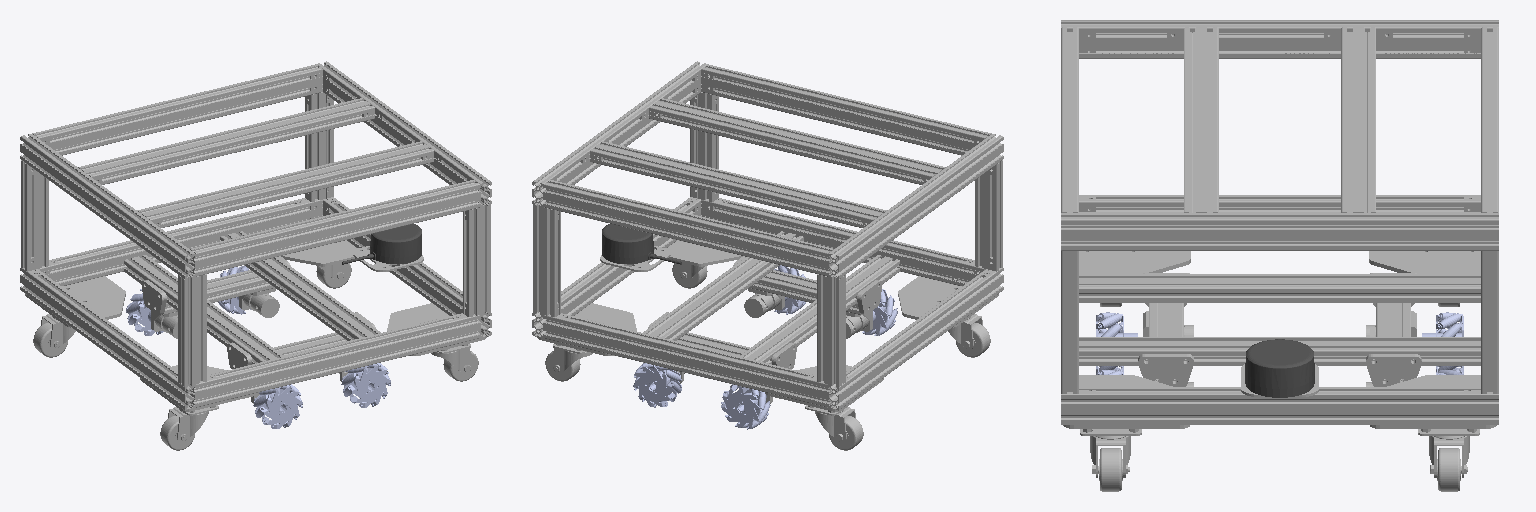
robot.urdf — chassis:
<?xml version="1.0" encoding="utf-8"?>
<!-- This URDF was automatically created by SolidWorks to URDF Exporter! Originally created by Stephen Brawner (brawner@gmail.com) 
     Commit Version: 1.6.0-4-g7f85cfe  Build Version: 1.6.7995.38578
     For more information, please see http://wiki.ros.org/sw_urdf_exporter -->
<robot
  name="chassis">
  <link
    name="base_link">
    <inertial>
      <origin
        xyz="-0.0677499107956596 4.3724418912483E-05 0.0683926250538354"
        rpy="0 0 0" />
      <mass
        value="3.22393142364253" />
      <inertia
        ixx="0.0187770652552285"
        ixy="-6.94989088987062E-08"
        ixz="-3.69535574562707E-08"
        iyy="0.02048392582904"
        iyz="3.35166257416731E-11"
        izz="0.0375088689683629" />
    </inertial>
    <visual>
      <origin
        xyz="0 0 0"
        rpy="0 0 0" />
      <geometry>
        <mesh
          filename="package://chassis/meshes/base_link.STL" />
      </geometry>
      <material
        name="">
        <color
          rgba="0.752941176470588 0.752941176470588 0.752941176470588 1" />
      </material>
    </visual>
    <collision>
      <origin
        xyz="0 0 0"
        rpy="0 0 0" />
      <geometry>
        <mesh
          filename="package://chassis/meshes/base_link.STL" />
      </geometry>
    </collision>
  </link>
  <link
    name="scan_Link">
    <inertial>
      <origin
        xyz="-0.0025063 4.5658E-06 0.0060826"
        rpy="0 0 0" />
      <mass
        value="0.037431" />
      <inertia
        ixx="2.8048E-05"
        ixy="-2.199E-09"
        ixz="-1.0712E-06"
        iyy="3.3616E-05"
        iyz="-6.8397E-10"
        izz="4.5085E-05" />
    </inertial>
    <visual>
      <origin
        xyz="0 0 0"
        rpy="0 0 0" />
      <geometry>
        <mesh
          filename="package://chassis/meshes/scan_Link.STL" />
      </geometry>
      <material
        name="">
        <color
          rgba="0.37647 0.37647 0.37647 1" />
      </material>
    </visual>
    <collision>
      <origin
        xyz="0 0 0"
        rpy="0 0 0" />
      <geometry>
        <mesh
          filename="package://chassis/meshes/scan_Link.STL" />
      </geometry>
    </collision>
  </link>
  <joint
    name="scan_Joint"
    type="fixed">
    <origin
      xyz="0.176999549642127 0 0.0500745386389849"
      rpy="0 0 0" />
    <parent
      link="base_link" />
    <child
      link="scan_Link" />
    <axis
      xyz="0 0 0" />
  </joint>
  <link
    name="FL_Link">
    <inertial>
      <origin
        xyz="-2.268E-05 -0.017766 -3.3245E-05"
        rpy="0 0 0" />
      <mass
        value="0.057098" />
      <inertia
        ixx="2.1034E-05"
        ixy="5.4288E-09"
        ixz="9.6894E-09"
        iyy="3.3961E-05"
        iyz="7.9775E-09"
        izz="2.1037E-05" />
    </inertial>
    <visual>
      <origin
        xyz="0 0 0"
        rpy="0 0 0" />
      <geometry>
        <mesh
          filename="package://chassis/meshes/FL_Link.STL" />
      </geometry>
      <material
        name="">
        <color
          rgba="0.79216 0.81961 0.93333 1" />
      </material>
    </visual>
    <collision>
      <origin
        xyz="0 0 0"
        rpy="0 0 0" />
      <geometry>
        <mesh
          filename="package://chassis/meshes/FL_Link.STL" />
      </geometry>
    </collision>
  </link>
  <joint
    name="FL_Joint"
    type="continuous">
    <origin
      xyz="0.0119843681259687 0.207999999999991 -0.0618699701855335"
      rpy="0 0 0" />
    <parent
      link="base_link" />
    <child
      link="FL_Link" />
    <axis
      xyz="0 -1 0" />
  </joint>
  <link
    name="FR_Link">
    <inertial>
      <origin
        xyz="-2.268E-05 0.017753 -3.3245E-05"
        rpy="0 0 0" />
      <mass
        value="0.057098" />
      <inertia
        ixx="2.1034E-05"
        ixy="5.4288E-09"
        ixz="9.6894E-09"
        iyy="3.3961E-05"
        iyz="7.9775E-09"
        izz="2.1037E-05" />
    </inertial>
    <visual>
      <origin
        xyz="0 0 0"
        rpy="0 0 0" />
      <geometry>
        <mesh
          filename="package://chassis/meshes/FR_Link.STL" />
      </geometry>
      <material
        name="">
        <color
          rgba="0.79216 0.81961 0.93333 1" />
      </material>
    </visual>
    <collision>
      <origin
        xyz="0 0 0"
        rpy="0 0 0" />
      <geometry>
        <mesh
          filename="package://chassis/meshes/FR_Link.STL" />
      </geometry>
    </collision>
  </link>
  <joint
    name="FR_Joint"
    type="continuous">
    <origin
      xyz="0.0119843681259713 -0.207999999999984 -0.061869970185527"
      rpy="0 0 0" />
    <parent
      link="base_link" />
    <child
      link="FR_Link" />
    <axis
      xyz="0 1 0" />
  </joint>
  <link
    name="BL_Link">
    <inertial>
      <origin
        xyz="-2.268E-05 -0.017766 -3.3245E-05"
        rpy="0 0 0" />
      <mass
        value="0.057098" />
      <inertia
        ixx="2.1034E-05"
        ixy="5.4288E-09"
        ixz="9.6894E-09"
        iyy="3.3961E-05"
        iyz="7.9775E-09"
        izz="2.1037E-05" />
    </inertial>
    <visual>
      <origin
        xyz="0 0 0"
        rpy="0 0 0" />
      <geometry>
        <mesh
          filename="package://chassis/meshes/BL_Link.STL" />
      </geometry>
      <material
        name="">
        <color
          rgba="0.79216 0.81961 0.93333 1" />
      </material>
    </visual>
    <collision>
      <origin
        xyz="0 0 0"
        rpy="0 0 0" />
      <geometry>
        <mesh
          filename="package://chassis/meshes/BL_Link.STL" />
      </geometry>
    </collision>
  </link>
  <joint
    name="BL_Joint"
    type="continuous">
    <origin
      xyz="-0.14301563187372 0.207999999999992 -0.0618702809722271"
      rpy="0 0 0" />
    <parent
      link="base_link" />
    <child
      link="BL_Link" />
    <axis
      xyz="0 -1 0" />
  </joint>
  <link
    name="BR_Link">
    <inertial>
      <origin
        xyz="-2.268E-05 0.017753 -3.3245E-05"
        rpy="0 0 0" />
      <mass
        value="0.057098" />
      <inertia
        ixx="2.1034E-05"
        ixy="5.4288E-09"
        ixz="9.6894E-09"
        iyy="3.3961E-05"
        iyz="7.9775E-09"
        izz="2.1037E-05" />
    </inertial>
    <visual>
      <origin
        xyz="0 0 0"
        rpy="0 0 0" />
      <geometry>
        <mesh
          filename="package://chassis/meshes/BR_Link.STL" />
      </geometry>
      <material
        name="">
        <color
          rgba="0.79216 0.81961 0.93333 1" />
      </material>
    </visual>
    <collision>
      <origin
        xyz="0 0 0"
        rpy="0 0 0" />
      <geometry>
        <mesh
          filename="package://chassis/meshes/BR_Link.STL" />
      </geometry>
    </collision>
  </link>
  <joint
    name="BR_Joint"
    type="continuous">
    <origin
      xyz="-0.143015631873717 -0.207999999999986 -0.0618702809722206"
      rpy="0 0 0" />
    <parent
      link="base_link" />
    <child
      link="BR_Link" />
    <axis
      xyz="0 1 0" />
  </joint>
</robot>

--- What the picture shows (computed from the rendered views, not written in the file) ---
Views: 3 orthographic renders of the robot side by side, from view 1: azimuth 30°, elevation 25°; view 2: azimuth 150°, elevation 25°; view 3: azimuth 270°, elevation 25°.
Model chassis with 6 links and 5 joints (4 continuous, 1 fixed), rooted at base_link, posed every joint at zero.
Links seen in each view (by area): view 1: base_link, scan_Link, FR_Link, BR_Link, BL_Link; view 2: base_link, scan_Link, FL_Link, BL_Link, BR_Link; view 3: base_link, scan_Link, BL_Link, BR_Link.
Link boxes in pixels (bbox=[...]): base_link: bbox=[20, 61, 491, 450]; scan_Link: bbox=[342, 224, 421, 264]; FR_Link: bbox=[341, 363, 390, 407]; BR_Link: bbox=[253, 384, 302, 428]; BL_Link: bbox=[126, 289, 163, 335]; base_link: bbox=[532, 61, 1003, 450]; scan_Link: bbox=[602, 224, 681, 264]; FL_Link: bbox=[633, 363, 681, 407]; BL_Link: bbox=[721, 384, 770, 429]; BR_Link: bbox=[862, 289, 897, 335]; base_link: bbox=[1061, 20, 1498, 491]; scan_Link: bbox=[1245, 339, 1314, 397]; BL_Link: bbox=[1422, 312, 1463, 372]; BR_Link: bbox=[1096, 312, 1137, 372].
Bounding box of the posed robot: 0.5608 × 0.5 × 0.3552 m (x, y, z).
6 mesh visuals loaded from 6 distinct referenced files (6 binary STL).
